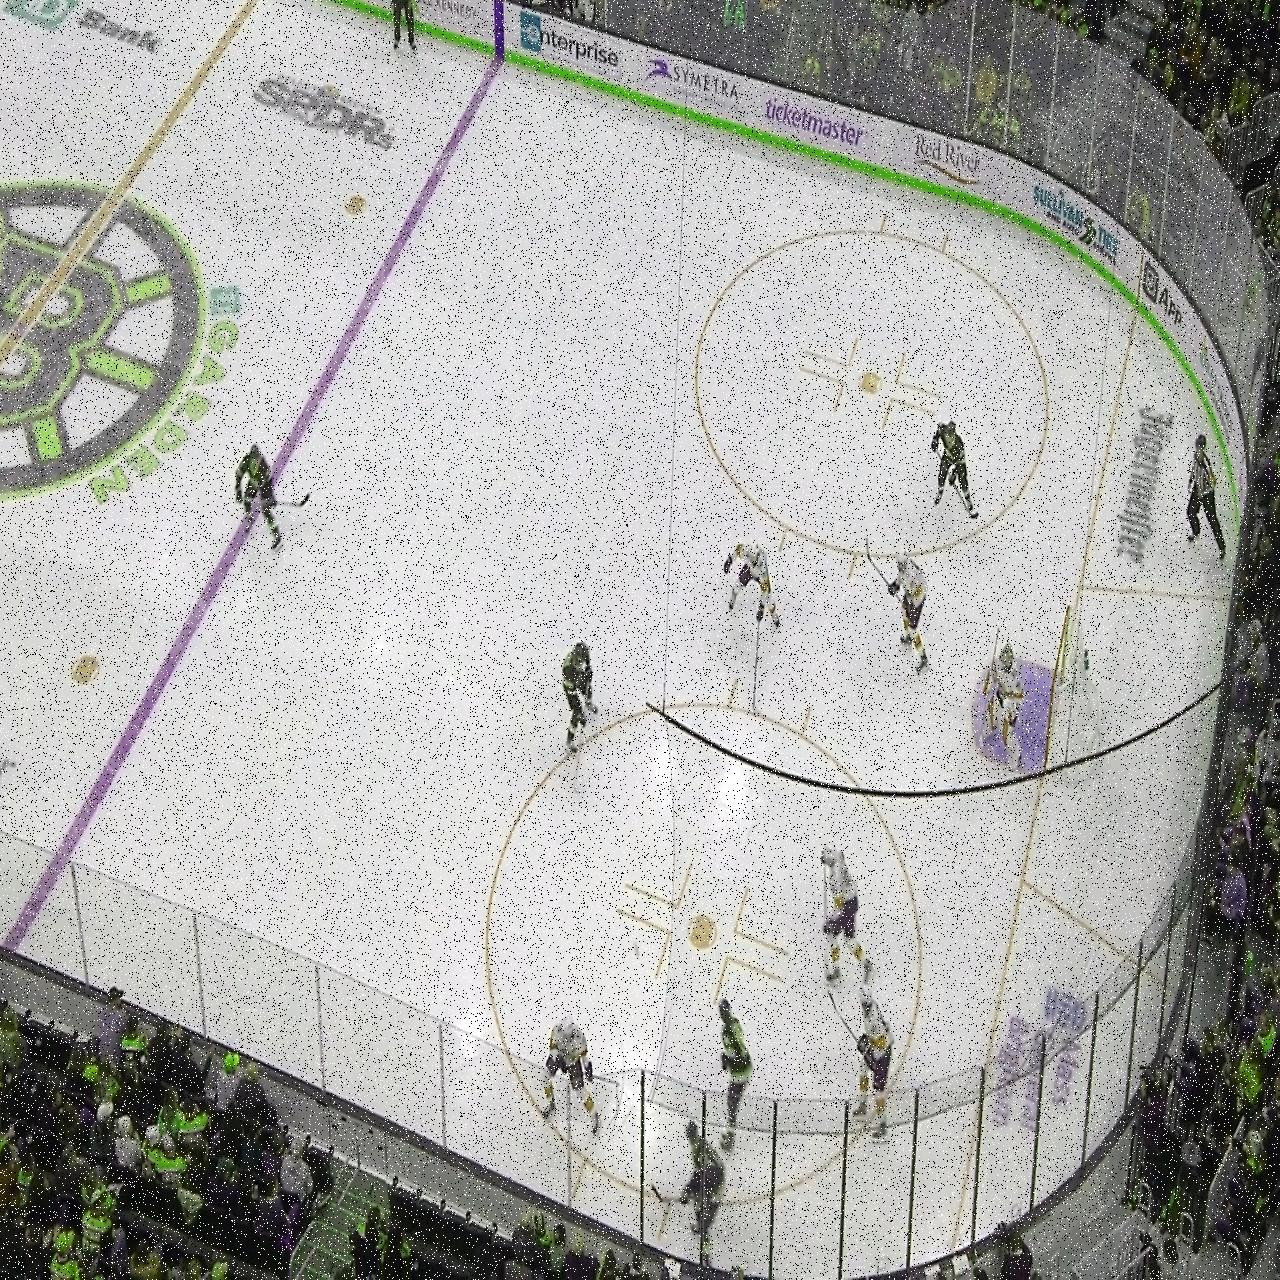Ad: (993, 960, 1087, 1141), (255, 59, 399, 162), (0, 0, 161, 71), (761, 78, 871, 171), (1117, 401, 1175, 571), (1031, 166, 1117, 277), (515, 7, 624, 90), (646, 48, 742, 118), (1195, 325, 1240, 466), (912, 123, 982, 193), (1139, 251, 1184, 333)
